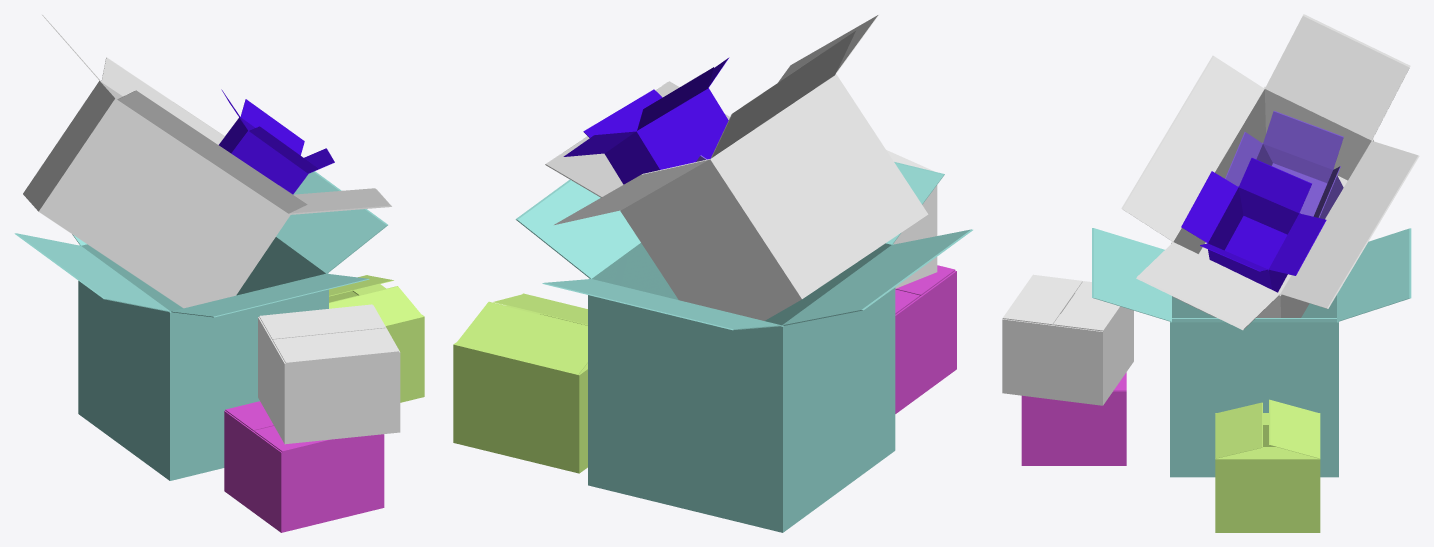
File: pakkehaug7.fbx
3 views of the same model, side by side, from view 1: azimuth 30°, elevation 25°; view 2: azimuth 150°, elevation 25°; view 3: azimuth 270°, elevation 25° (orthographic). The views are drawn at different scales.
Parts seen in each view (by area): view 1: pakke7, pakke8, pakke14, pakke13, pakke10, pakke11; view 2: pakke7, pakke8, pakke11, pakke10, pakke13, pakke14; view 3: pakke8, pakke7, pakke14, pakke11, pakke10, pakke13, pakke12.
Part boxes in pixels (x1,y1,x2,y2): pakke7: (14, 171, 387, 480); pakke8: (23, 15, 391, 308); pakke14: (258, 304, 400, 444); pakke13: (224, 401, 384, 532); pakke10: (219, 89, 334, 194); pakke11: (329, 275, 424, 402); pakke7: (515, 162, 972, 532); pakke8: (545, 14, 928, 320); pakke11: (453, 293, 587, 473); pakke10: (563, 57, 729, 184); pakke13: (895, 265, 956, 413); pakke14: (886, 150, 937, 288); pakke8: (1121, 14, 1419, 330); pakke7: (1092, 228, 1411, 477); pakke14: (1002, 274, 1133, 405); pakke11: (1215, 399, 1320, 532); pakke10: (1181, 158, 1326, 292); pakke13: (1021, 372, 1126, 465); pakke12: (1225, 111, 1343, 219).
Size of the model in its own units: 172 by 187 by 189.
